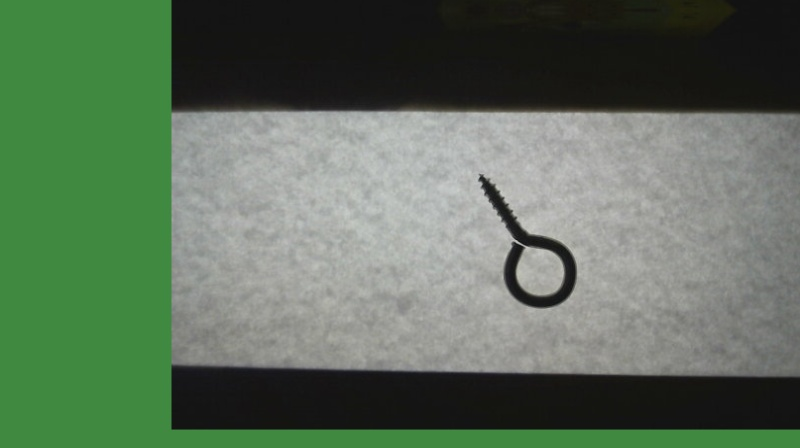O001: (474, 168, 580, 312)
